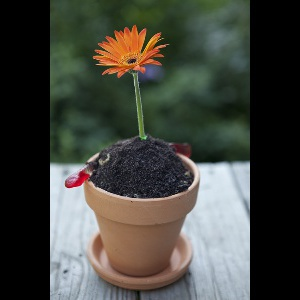flowerpot: (87, 141, 200, 294)
